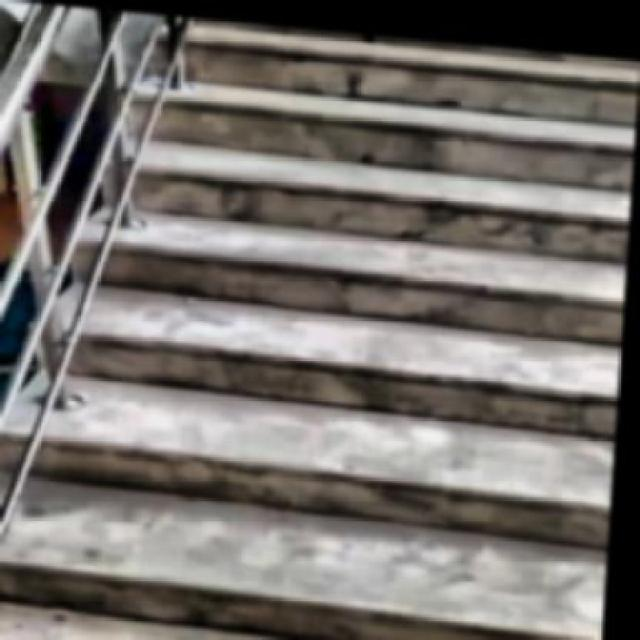stair: (4, 1, 640, 638)
